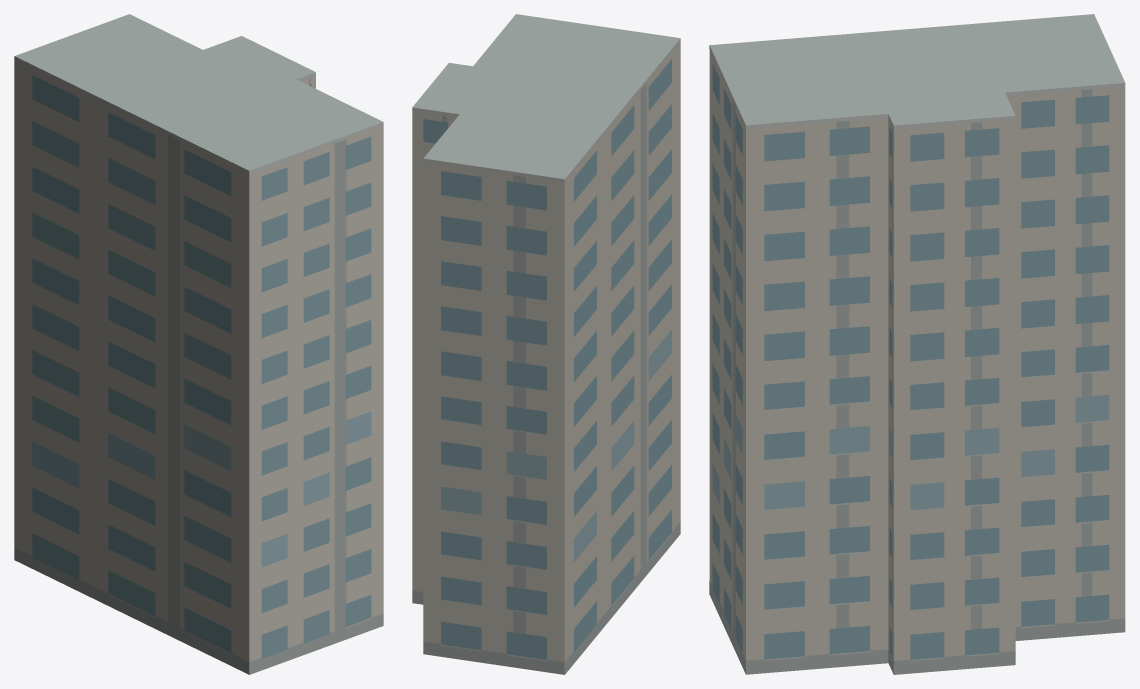
The model's file is residential-bce6557c-dfec-4a01-b164-cfd5a59c9309.glb.
The picture shows the model from 3 angles, left to right: view 1: azimuth 30°, elevation 25°; view 2: azimuth 150°, elevation 25°; view 3: azimuth 270°, elevation 25°; orthographic projection. The views are drawn at different scales.
Parts seen in each view (by area): view 1: residential-bce6557c-dfec-4a01-b164-cfd5a59c9309.tmp; view 2: residential-bce6557c-dfec-4a01-b164-cfd5a59c9309.tmp; view 3: residential-bce6557c-dfec-4a01-b164-cfd5a59c9309.tmp.
Boxes of the visible parts, x1,y1,x2,y2 form: residential-bce6557c-dfec-4a01-b164-cfd5a59c9309.tmp: (14, 14, 383, 674); residential-bce6557c-dfec-4a01-b164-cfd5a59c9309.tmp: (412, 14, 680, 674); residential-bce6557c-dfec-4a01-b164-cfd5a59c9309.tmp: (709, 14, 1125, 674).
Size of the model in its own units: 15.25 by 35 by 24.02.
